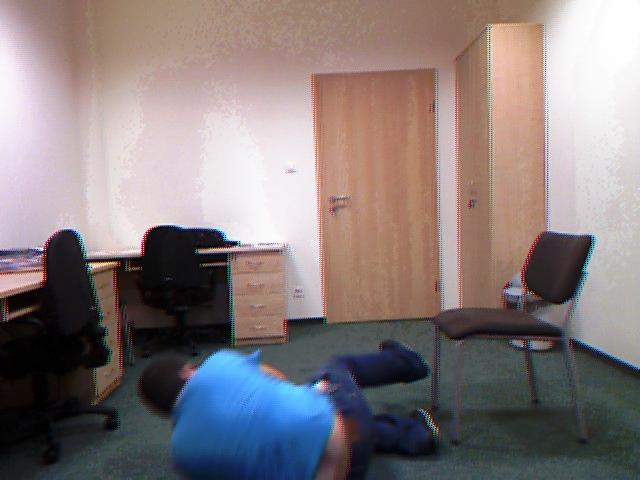fall: (140, 341, 439, 479)
